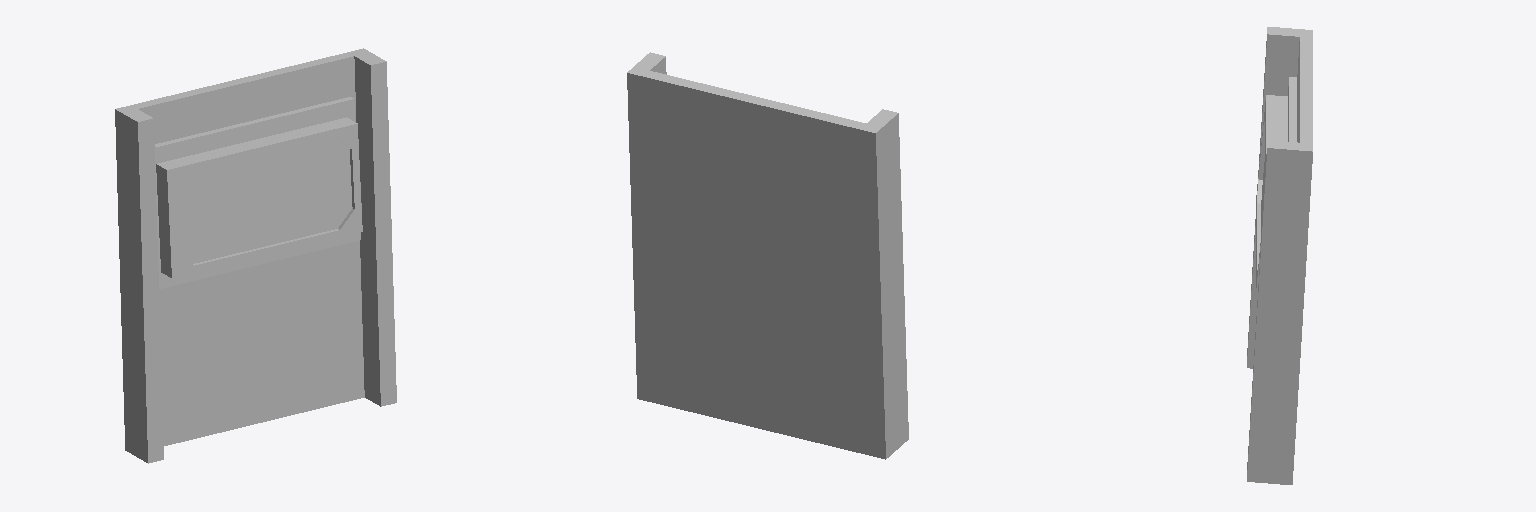
File: mur.obj
3 views of the same model, side by side, from view 1: azimuth 30°, elevation 25°; view 2: azimuth 150°, elevation 25°; view 3: azimuth 270°, elevation 25° (orthographic).
Parts seen in each view (by area): view 1: Wall.004_Cube.097; view 2: Wall.004_Cube.097; view 3: Wall.004_Cube.097.
Boxes of the visible parts, x1,y1,x2,y2 form: Wall.004_Cube.097: [115, 48, 396, 463]; Wall.004_Cube.097: [627, 52, 908, 459]; Wall.004_Cube.097: [1247, 27, 1312, 484].
Bounding box in the file's own units: 4.91 × 6.36 × 1.13.